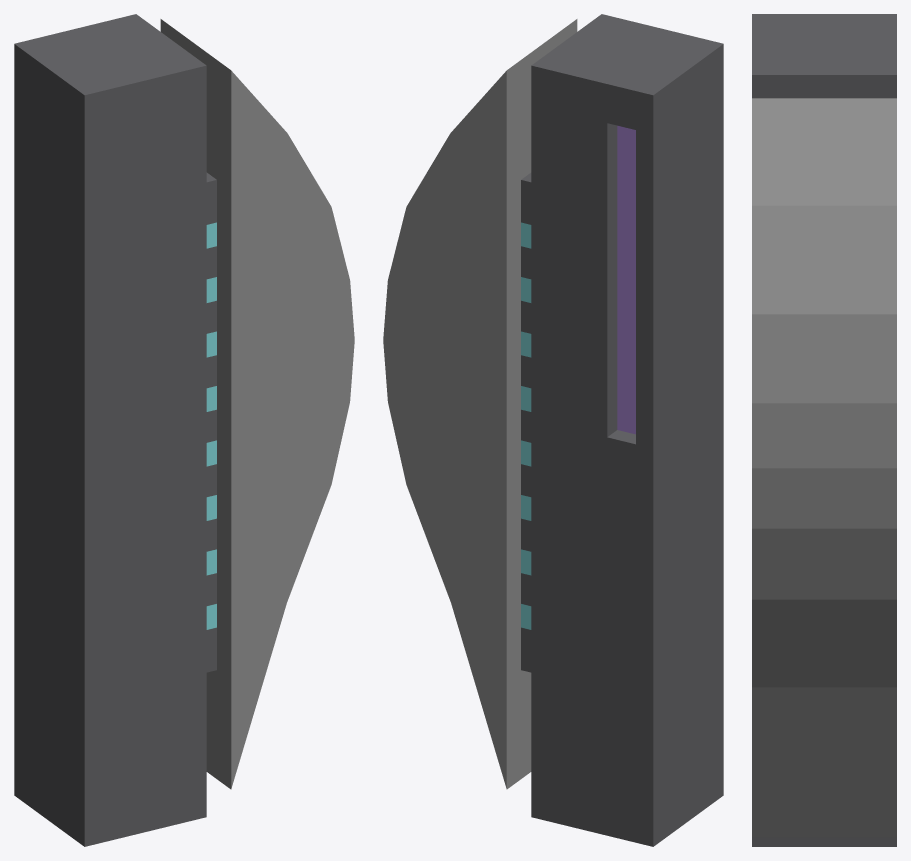
3 renders of one model, left to right at view 1: azimuth 30°, elevation 25°; view 2: azimuth 150°, elevation 25°; view 3: azimuth 270°, elevation 25°, orthographic. The views are drawn at different scales.
Visible parts, largest first — view 1: Cube.002; view 2: Cube.002; view 3: Cube.002.
Boxes of the visible parts, box(x1,y1,x2,y2) form: Cube.002: box(14, 14, 354, 846); Cube.002: box(383, 14, 723, 846); Cube.002: box(752, 14, 896, 846).
Bounding box in the file's own units: 443 × 1177 × 200.
